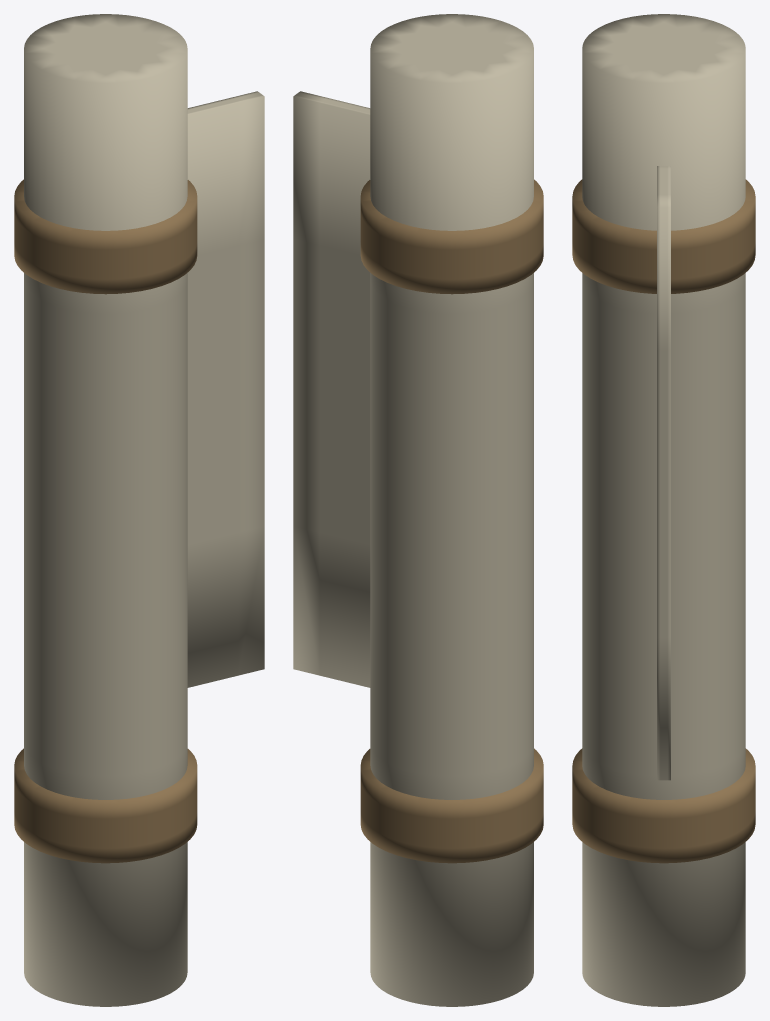
3 views of the same model, side by side, from view 1: azimuth 30°, elevation 25°; view 2: azimuth 150°, elevation 25°; view 3: azimuth 270°, elevation 25° (orthographic).
Parts seen in each view (by area): view 1: building_plan; view 2: building_plan; view 3: building_plan.
Boxes of the visible parts, left/top/right/bottom form: building_plan: left=14, top=14, right=264, bottom=1006; building_plan: left=293, top=14, right=543, bottom=1006; building_plan: left=572, top=14, right=755, bottom=1006.
Bounding box in the file's own units: 0.1329 × 0.5 × 0.0898.
